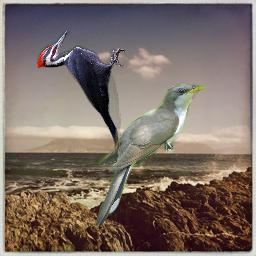Cuckoo: (95, 84, 205, 227)
Woodpecker: (37, 31, 125, 155)
